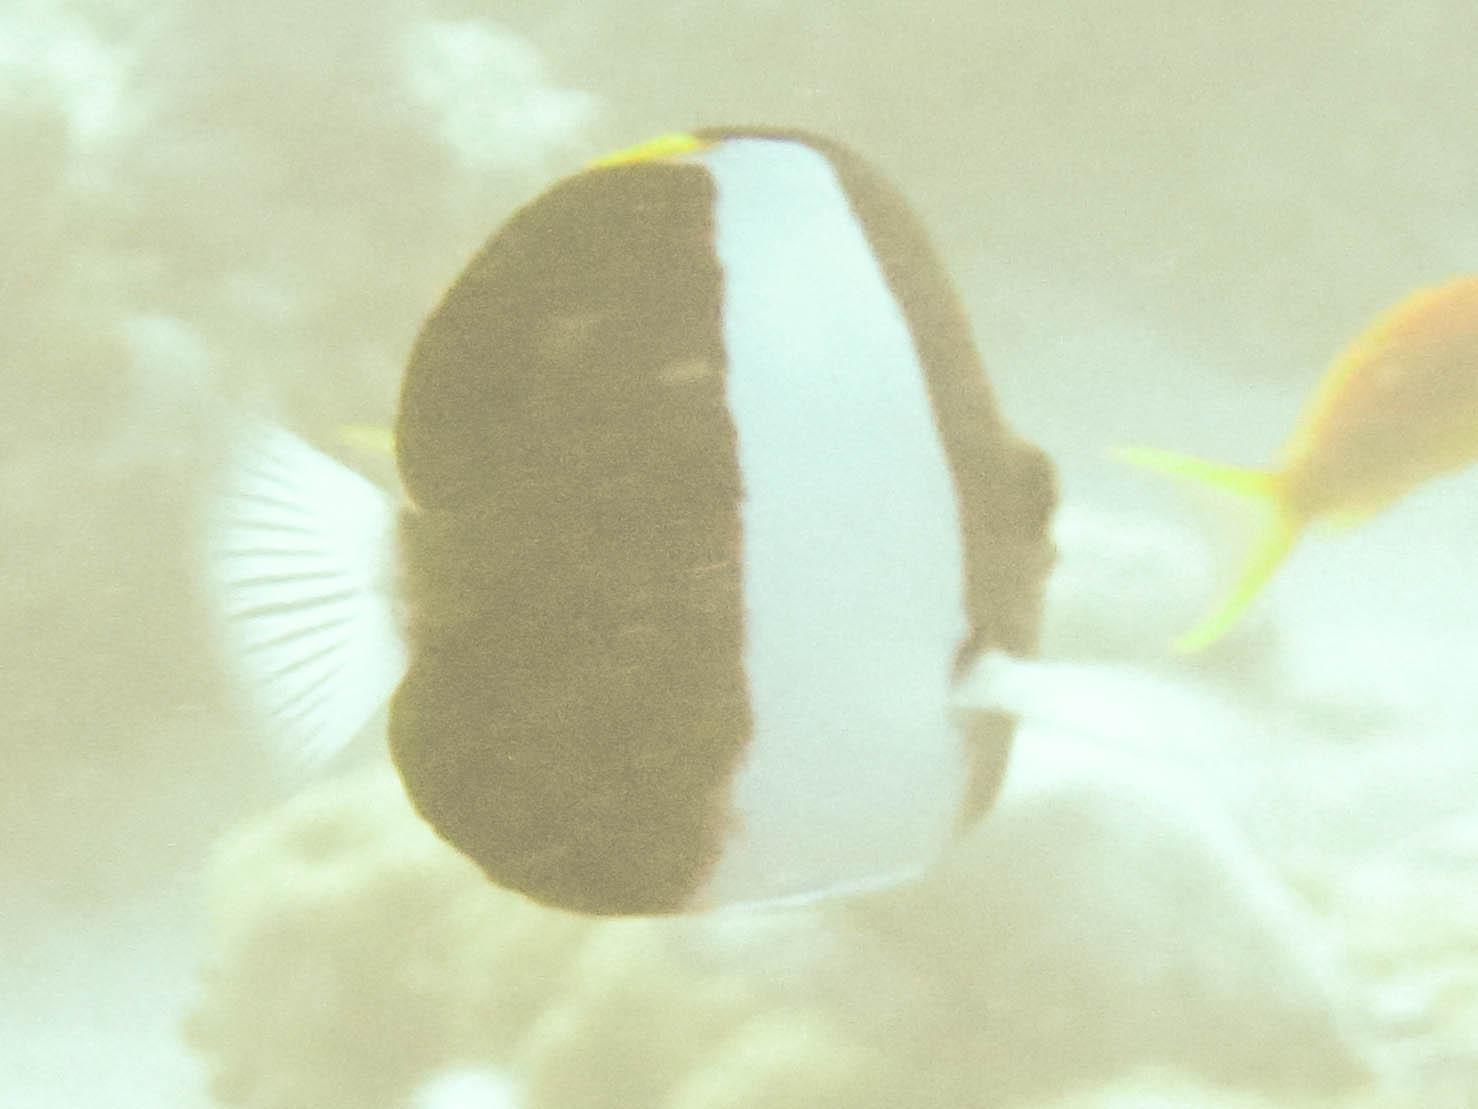Fish: (92, 22, 1281, 1025)
